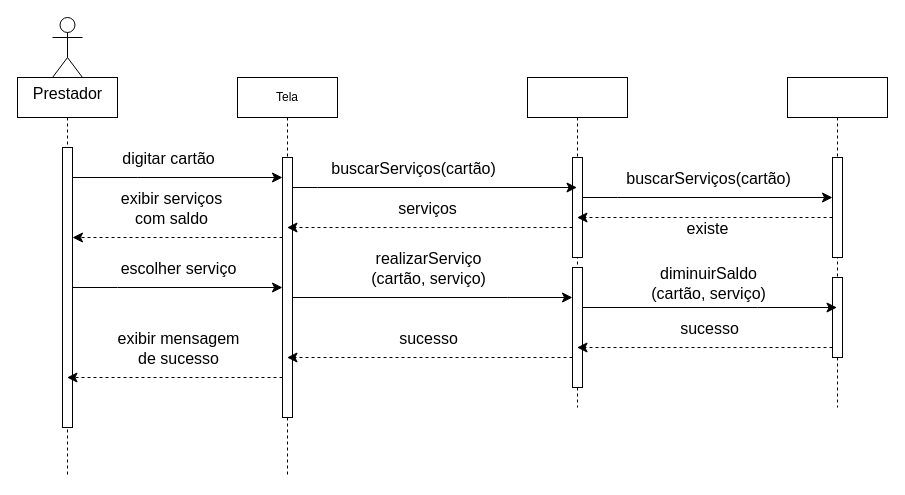
Image size: 905x495. Some labels were removed from this diagram. The box of each missing label's shape, as (x1, y1, x2, y2) in pixels:
Banco de Dados: (786, 76, 888, 408)
Negócio: (526, 76, 628, 408)
